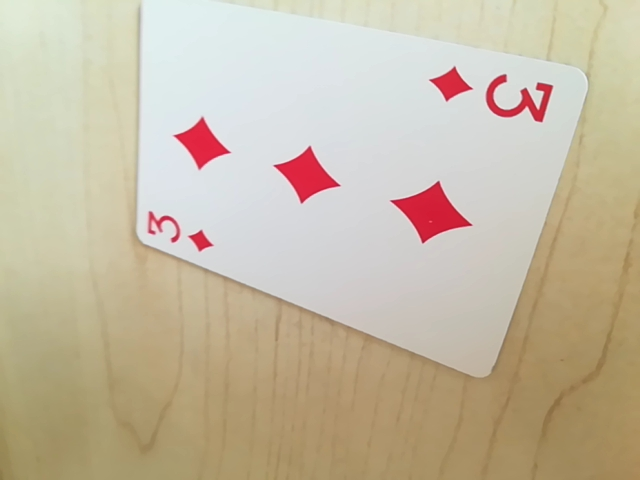fk 3: (424, 63, 553, 125), (140, 203, 216, 258)
